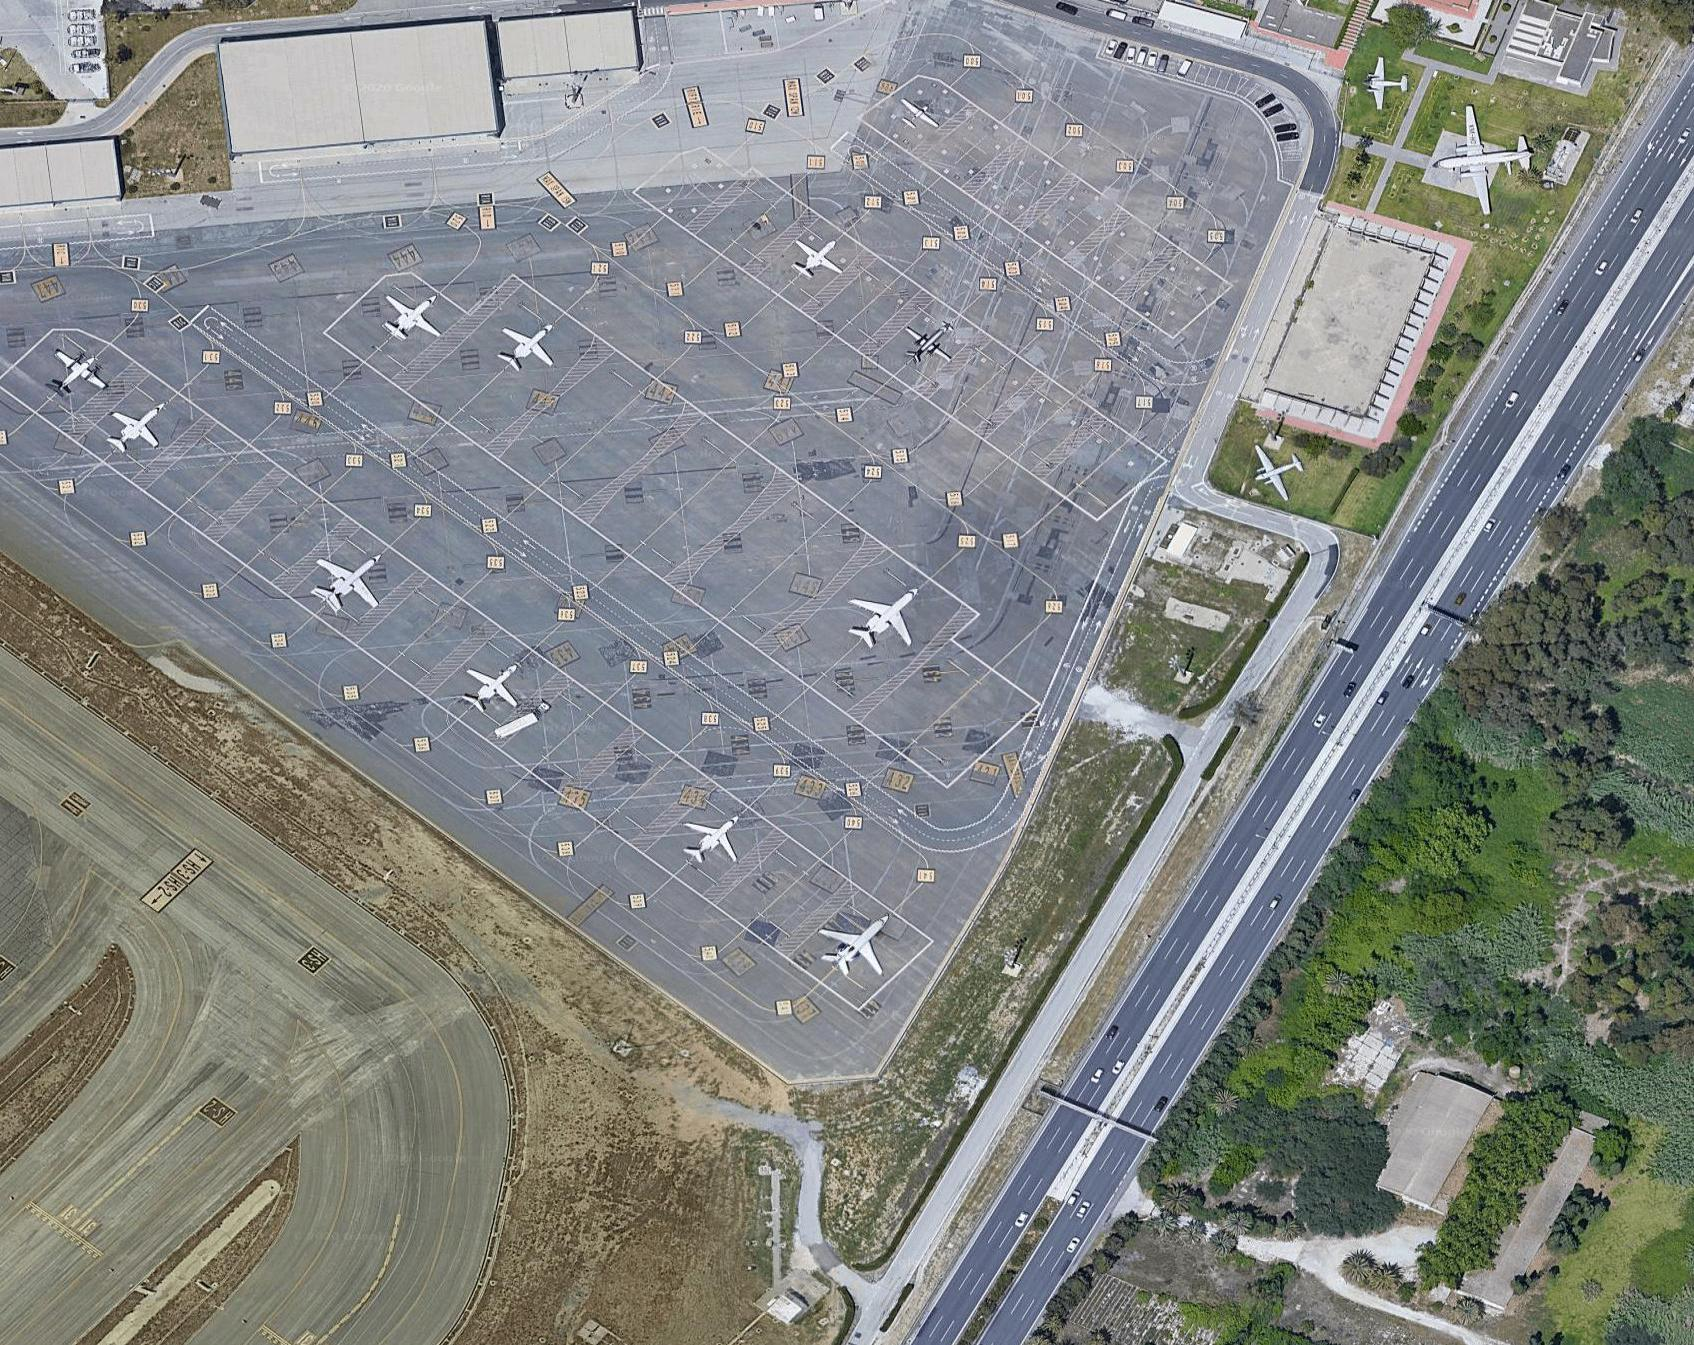plane: (1418, 99, 1544, 231), (802, 897, 903, 996), (298, 534, 397, 633), (832, 567, 929, 666), (881, 301, 975, 388), (1233, 422, 1319, 517), (483, 304, 571, 388), (96, 382, 181, 468), (368, 278, 450, 353), (670, 806, 749, 880), (451, 650, 525, 723), (1346, 50, 1418, 116), (780, 226, 848, 289), (45, 340, 114, 403), (890, 87, 949, 140)
